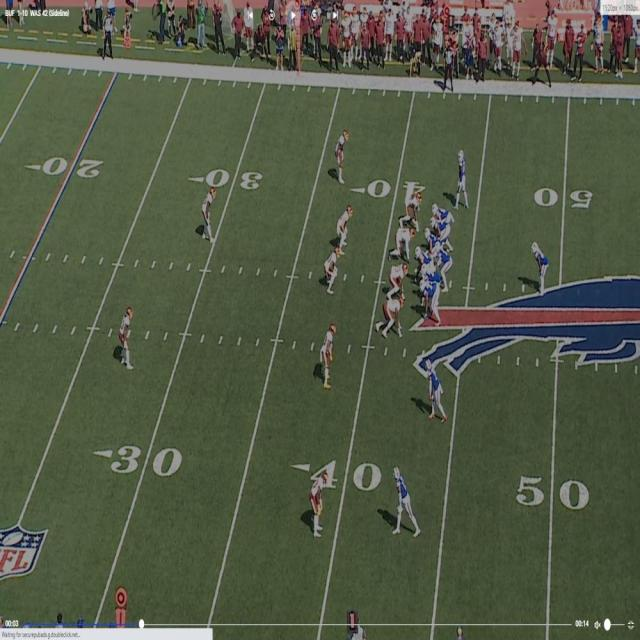center: (413, 244, 433, 277)
db: (322, 323, 339, 389), (310, 473, 327, 536), (118, 306, 134, 365), (200, 187, 213, 238), (338, 128, 349, 180)
lb: (322, 249, 338, 297), (338, 209, 353, 254)
qb: (434, 243, 452, 284)
skill: (392, 466, 414, 536), (426, 362, 442, 418), (531, 241, 546, 290), (456, 148, 467, 210), (432, 204, 454, 222)
